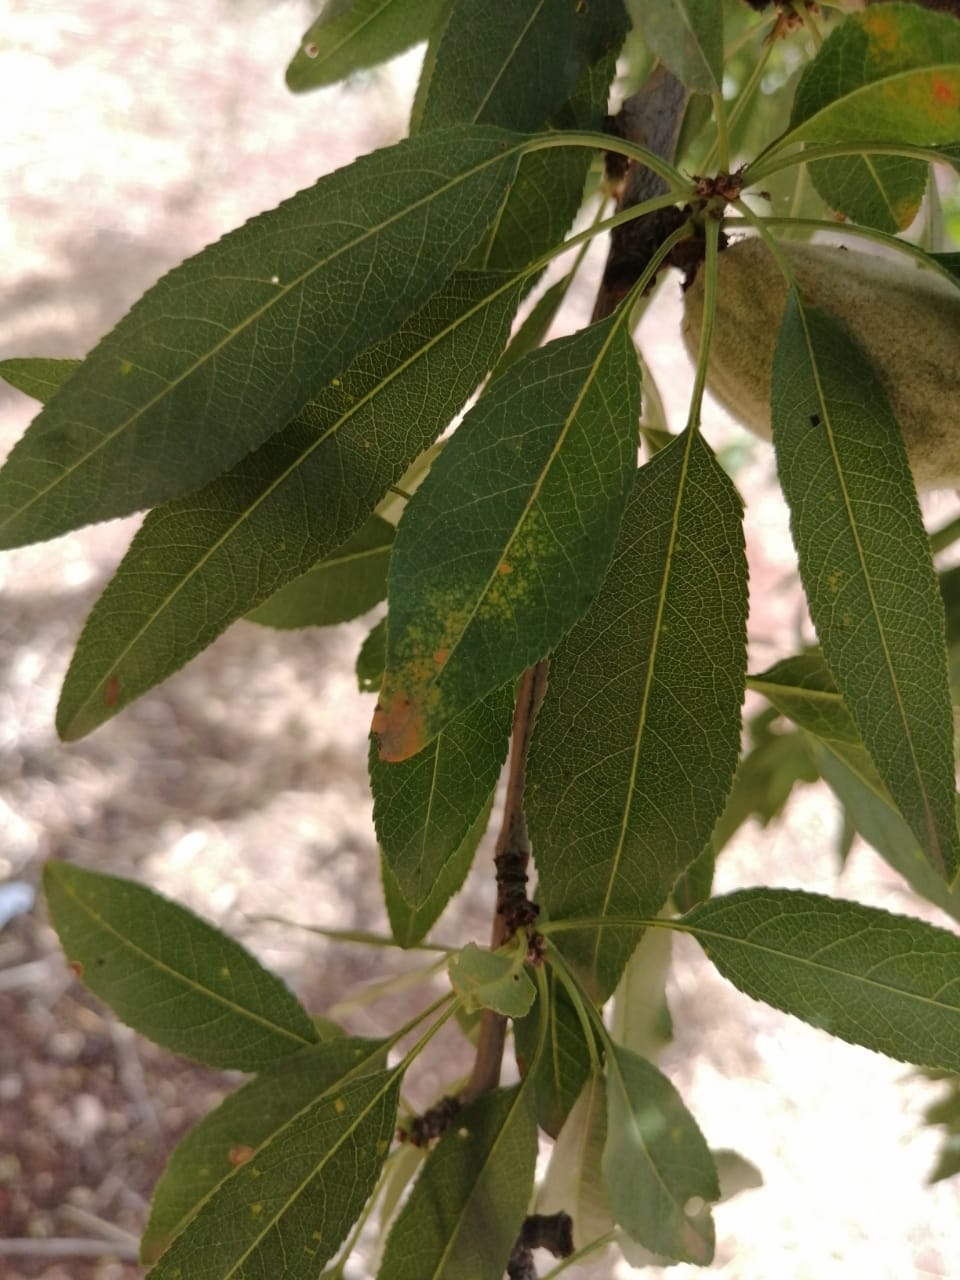faux tigre: (367, 317, 642, 764)
